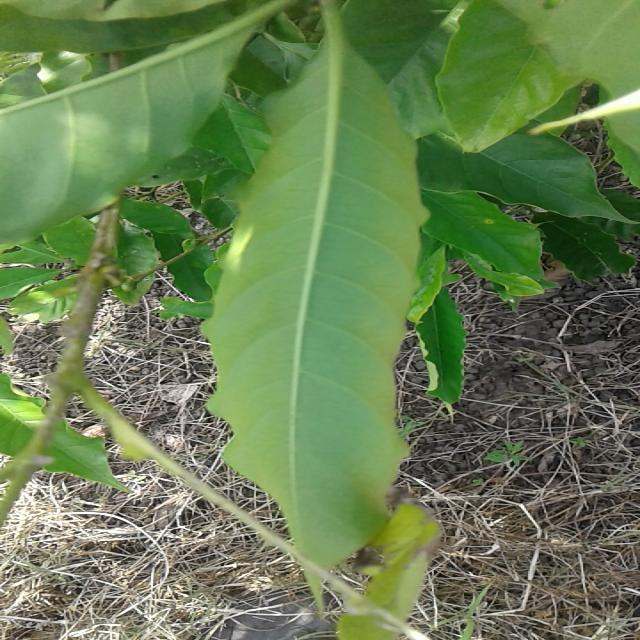Sanas: (201, 0, 430, 640)
